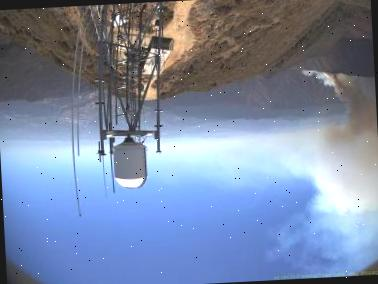smoke: (297, 65, 378, 236)
